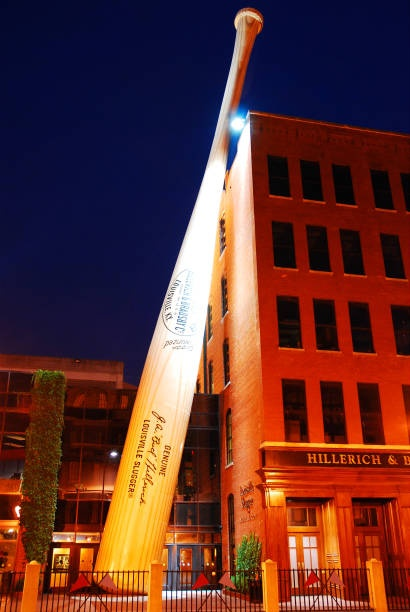bita: (86, 8, 264, 591)
